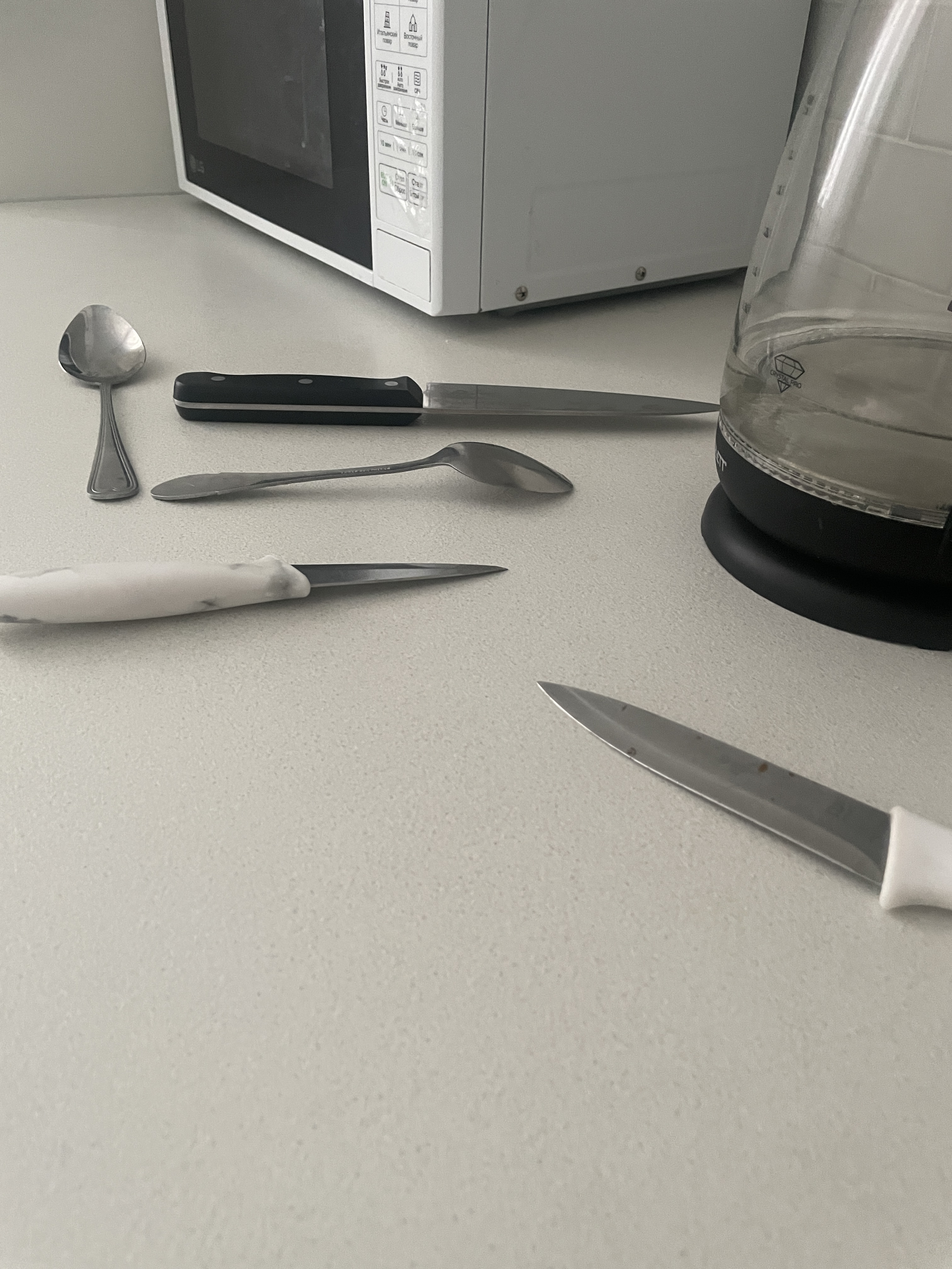knife: (539, 682, 952, 909), (0, 557, 505, 623), (173, 372, 717, 426)
spoon: (151, 442, 573, 501), (59, 305, 146, 500)
